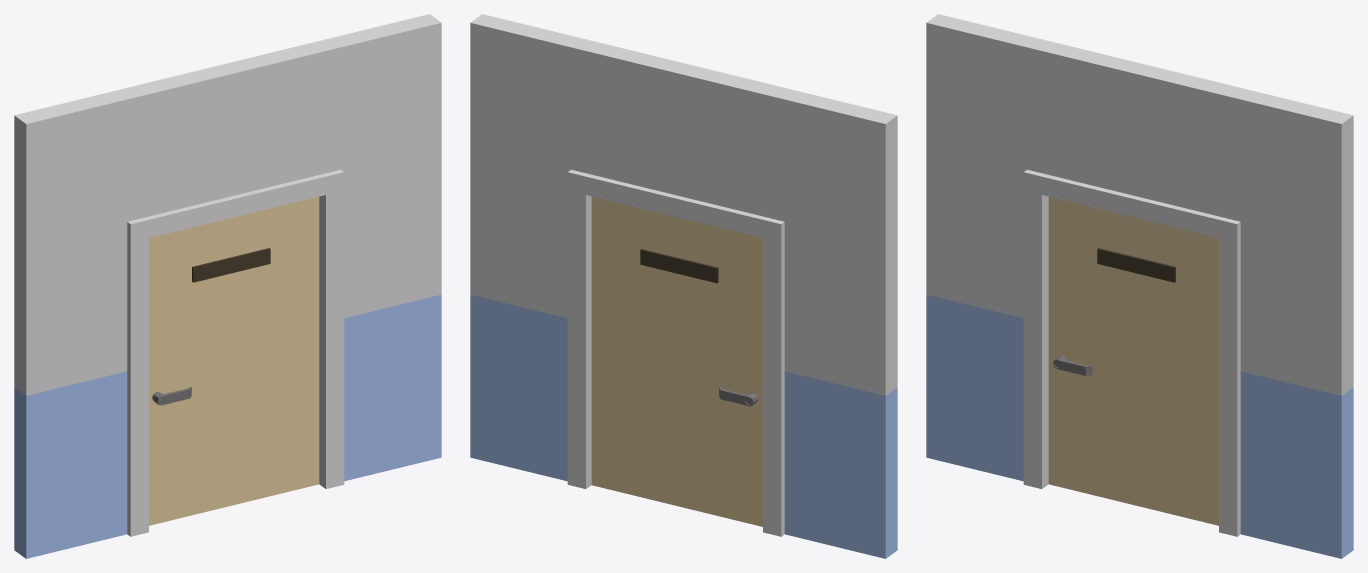
File: Wall_Doorway.fbx
3 renders of one model, left to right at view 1: azimuth 30°, elevation 25°; view 2: azimuth 150°, elevation 25°; view 3: azimuth 330°, elevation 25°, orthographic.
Visible parts, largest first — view 1: Wall_Doorway, Door; view 2: Wall_Doorway, Door; view 3: Wall_Doorway, Door.
Part boxes in pixels (bbox=[...]): Wall_Doorway: bbox=[14, 14, 441, 558]; Door: bbox=[149, 196, 319, 525]; Wall_Doorway: bbox=[470, 14, 897, 558]; Door: bbox=[591, 196, 762, 526]; Wall_Doorway: bbox=[926, 14, 1353, 558]; Door: bbox=[1048, 196, 1218, 525].
Size of the model in its own units: 4 by 4 by 0.3151.
